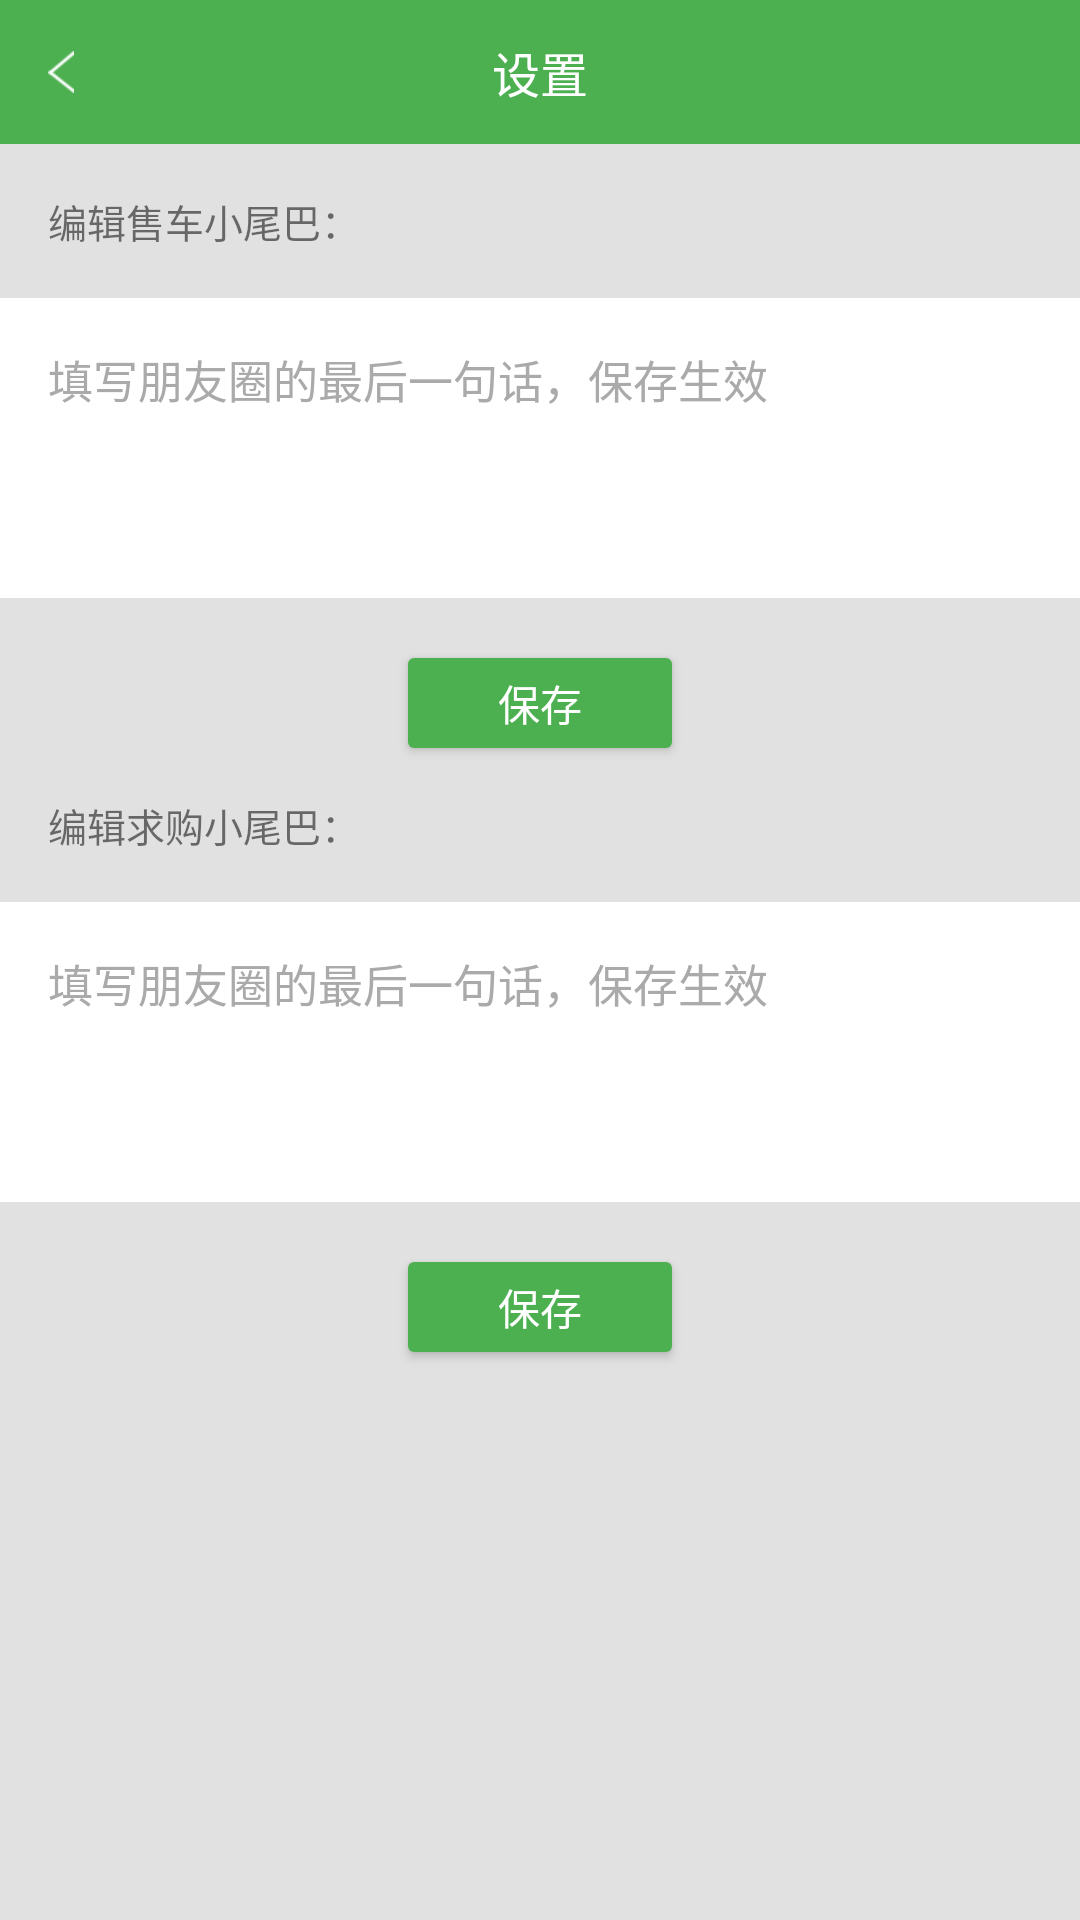

Icon bounding boxes for this 1080 x 1920 phone screenshot, format (x1=x1, y1=y1, x2=x2, y2=y2):
back: (x1=48, y1=51, x2=74, y2=93)
